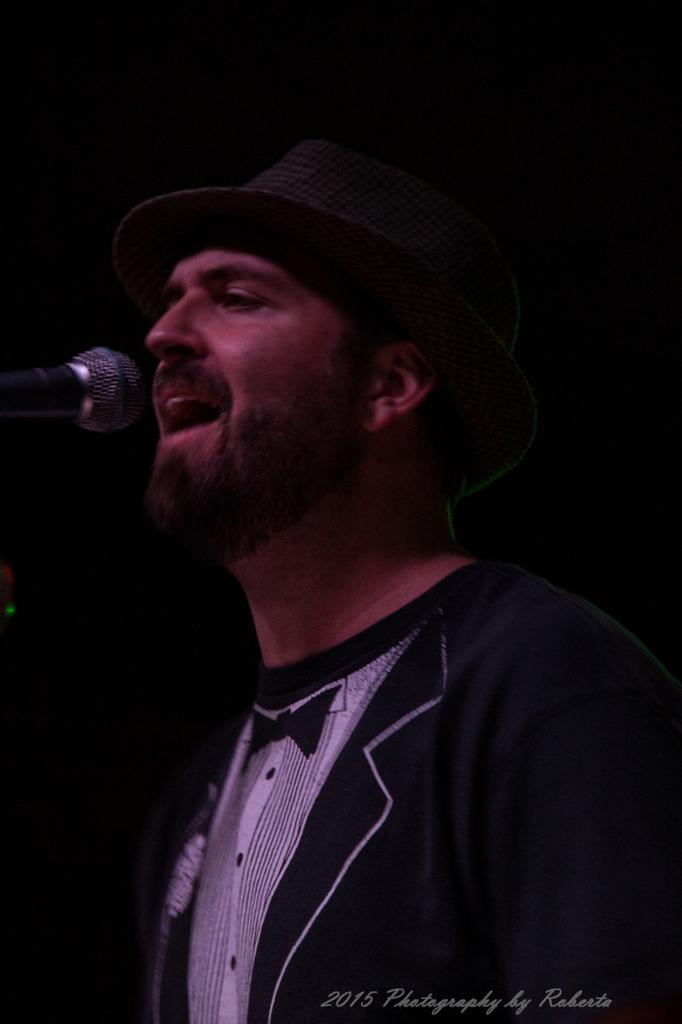Hat: (117, 134, 546, 504)
